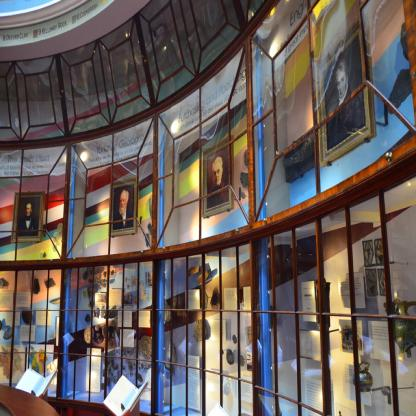book: (104, 376, 150, 416), (15, 365, 58, 406)
